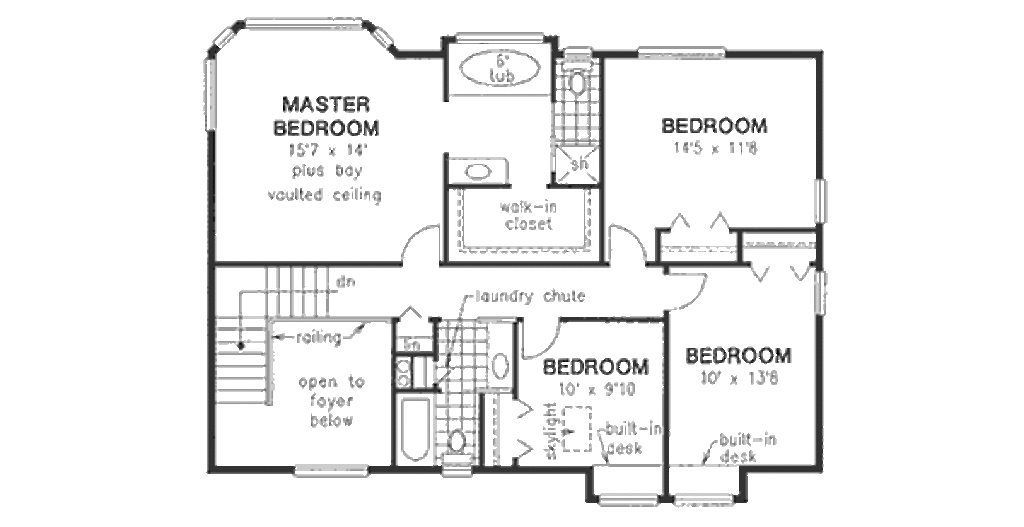door: (395, 225, 443, 267), (519, 316, 561, 363), (663, 271, 707, 312), (606, 225, 648, 265)
large_sink: (438, 427, 479, 477), (559, 47, 595, 98)
small_sink: (443, 148, 509, 187), (490, 342, 514, 388)
stairs: (211, 258, 334, 415)
tub: (389, 386, 435, 463)
window: (243, 11, 364, 32), (634, 42, 729, 65), (201, 56, 226, 132), (292, 459, 370, 480), (675, 489, 737, 507), (811, 269, 832, 319), (596, 492, 657, 509), (812, 178, 831, 229)
